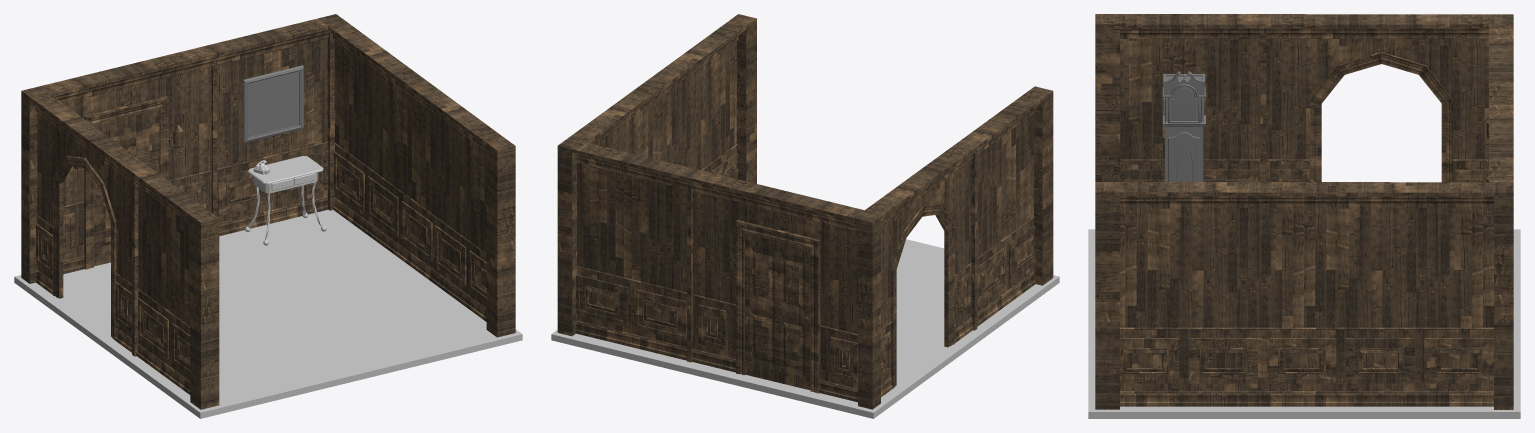
3 views of the same model, side by side, from view 1: azimuth 30°, elevation 25°; view 2: azimuth 150°, elevation 25°; view 3: azimuth 270°, elevation 25° (orthographic). The views are drawn at different scales.
Parts seen in each view (by area): view 1: pCube34, pCube20, polySurface9, pSphere5, polySurface11, polySurface8, polySurface15, pCube33, Telephone2, pCube29, pCube15, polySurface14; view 2: pSphere5, pCube20, polySurface11, pCube34, polySurface9, polySurface15, polySurface8, polySurface14, pCube29, pCube25; view 3: polySurface9, pCube20, polySurface8, polySurface15, pCube34, Tick_Tock_Tick_Tock2:pCube3Shape, pCube28.
Part boxes in pixels (x1=…): pCube34: x1=14, y1=209, x2=522, y2=418; pCube20: x1=21, y1=14, x2=515, y2=409; polySurface9: x1=330, y1=31, x2=486, y2=321; pSphere5: x1=54, y1=56, x2=216, y2=274; polySurface11: x1=216, y1=29, x2=330, y2=235; polySurface8: x1=31, y1=101, x2=131, y2=352; polySurface15: x1=132, y1=176, x2=190, y2=394; pCube33: x1=243, y1=65, x2=303, y2=142; Telephone2: x1=245, y1=155, x2=326, y2=245; pCube29: x1=132, y1=176, x2=138, y2=356; pCube15: x1=211, y1=60, x2=217, y2=216; polySurface14: x1=63, y1=180, x2=206, y2=254; pSphere5: x1=687, y1=180, x2=857, y2=402; pCube20: x1=557, y1=14, x2=1053, y2=409; polySurface11: x1=573, y1=152, x2=688, y2=360; pCube34: x1=551, y1=239, x2=1059, y2=418; polySurface9: x1=590, y1=33, x2=741, y2=178; polySurface15: x1=977, y1=105, x2=1038, y2=326; polySurface8: x1=881, y1=148, x2=978, y2=397; polySurface14: x1=698, y1=304, x2=857, y2=382; pCube29: x1=971, y1=151, x2=977, y2=330; pCube25: x1=687, y1=180, x2=692, y2=362; polySurface9: x1=1120, y1=196, x2=1493, y2=406; pCube20: x1=1095, y1=14, x2=1513, y2=409; polySurface8: x1=1264, y1=28, x2=1488, y2=182; polySurface15: x1=1120, y1=28, x2=1263, y2=181; pCube34: x1=1088, y1=229, x2=1520, y2=418; Tick_Tock_Tick_Tock2:pCube3Shape: x1=1162, y1=69, x2=1205, y2=181; pCube28: x1=1260, y1=32, x2=1266, y2=181.
Size of the model in its own units: 5.5 by 3.15 by 5.5.
